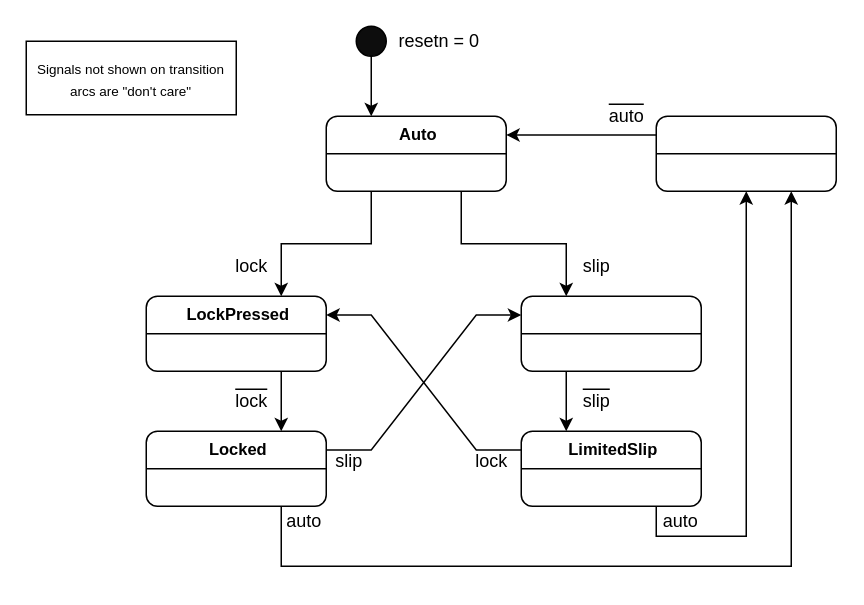
The diagram is 864 pixels wide and 605 high, and some of its shapes have lost their labels. The centre of each missing label's shape, as x and y in pixels:
"AutoPressed" goes at pixel 745 153.
"SlipPressed" goes at pixel 610 333.
